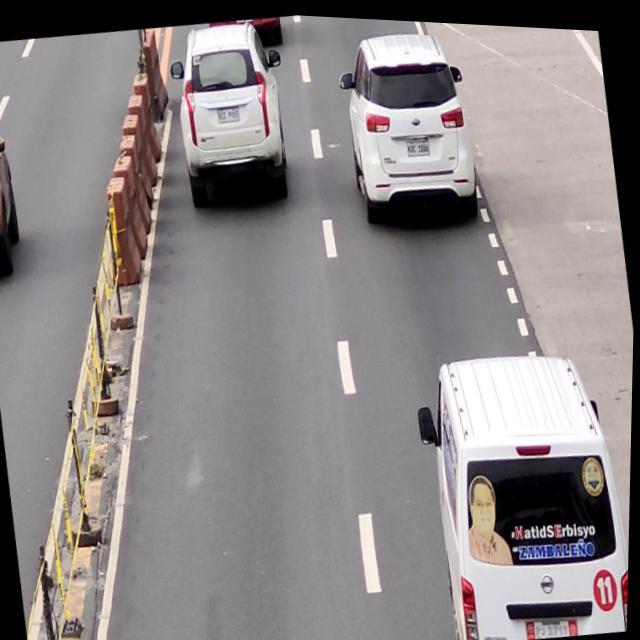Car: (408, 332, 635, 640), (331, 19, 483, 229), (162, 14, 301, 213)
License-Plate: (535, 608, 573, 635), (406, 134, 431, 153), (217, 103, 242, 122)
